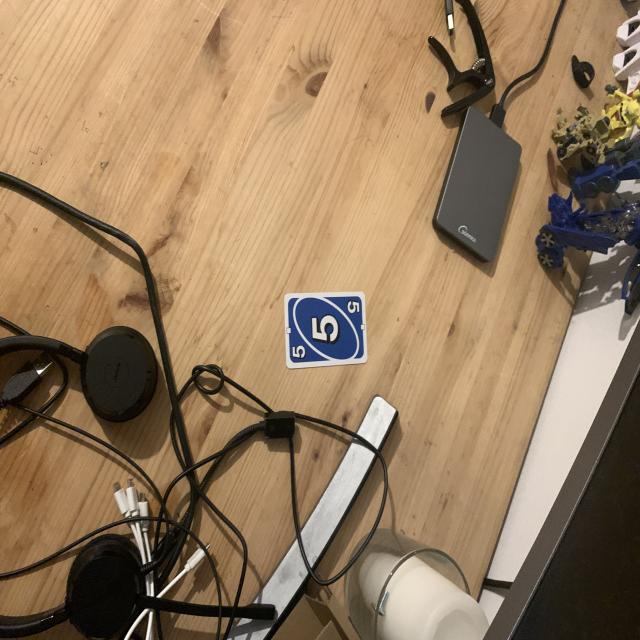lblue-5: (345, 296, 362, 318)
